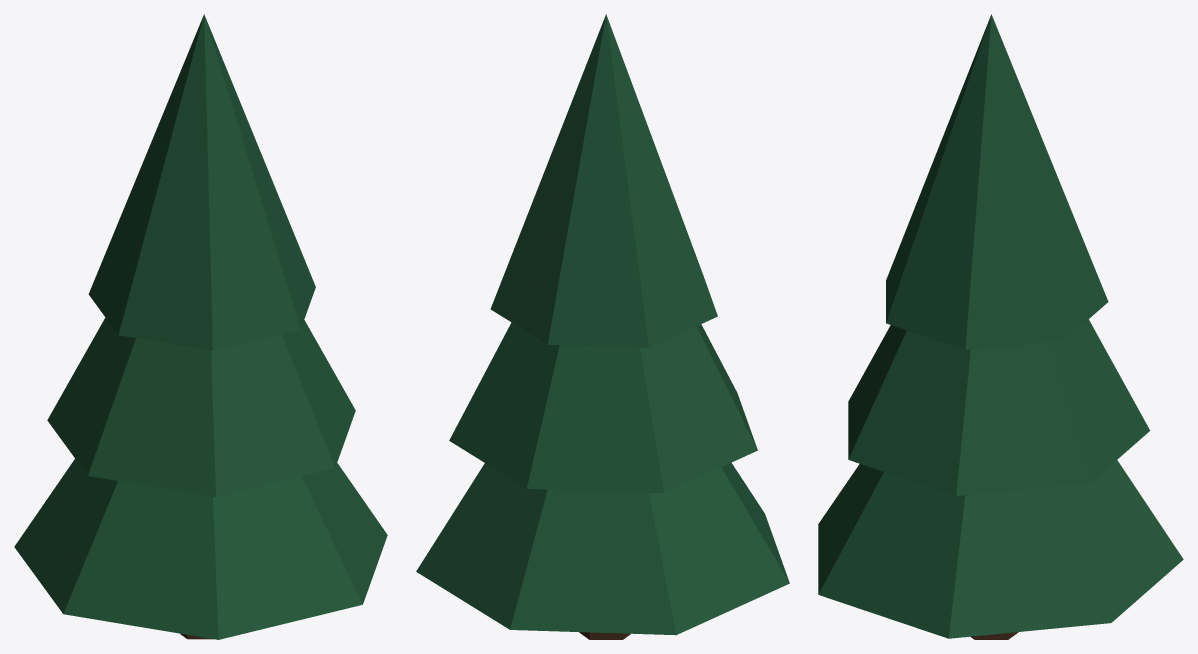
File: pine.glb
3 renders of one model, left to right at view 1: azimuth 30°, elevation 25°; view 2: azimuth 150°, elevation 25°; view 3: azimuth 270°, elevation 25°, orthographic.
Parts seen in each view (by area): view 1: pine; view 2: pine; view 3: pine.
Part boxes in pixels (x1,y1,x2,y2): pine: (14, 14, 387, 639); pine: (416, 14, 789, 639); pine: (818, 14, 1183, 639).
Bounding box in the file's own units: 0.4485 × 0.81 × 0.4372.
